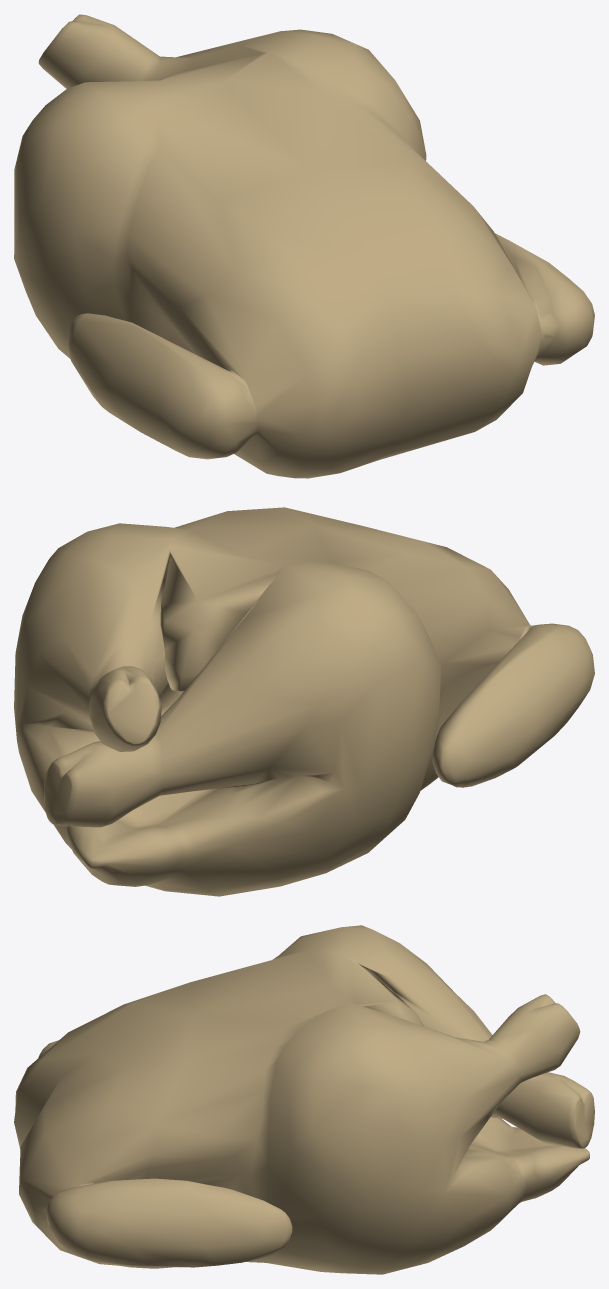
The picture shows the model from 3 angles, top to bottom: view 1: azimuth 30°, elevation 25°; view 2: azimuth 150°, elevation 25°; view 3: azimuth 270°, elevation 25°; orthographic projection. The views are drawn at different scales.
Visible parts, largest first — view 1: ga:________; view 2: ga:________; view 3: ga:________.
Part boxes in pixels (x1=…): ga:________: x1=14, y1=14, x2=594, y2=478; ga:________: x1=14, y1=507, x2=594, y2=896; ga:________: x1=14, y1=925, x2=594, y2=1274.
Size of the model in its own units: 132 by 90.26 by 177.
